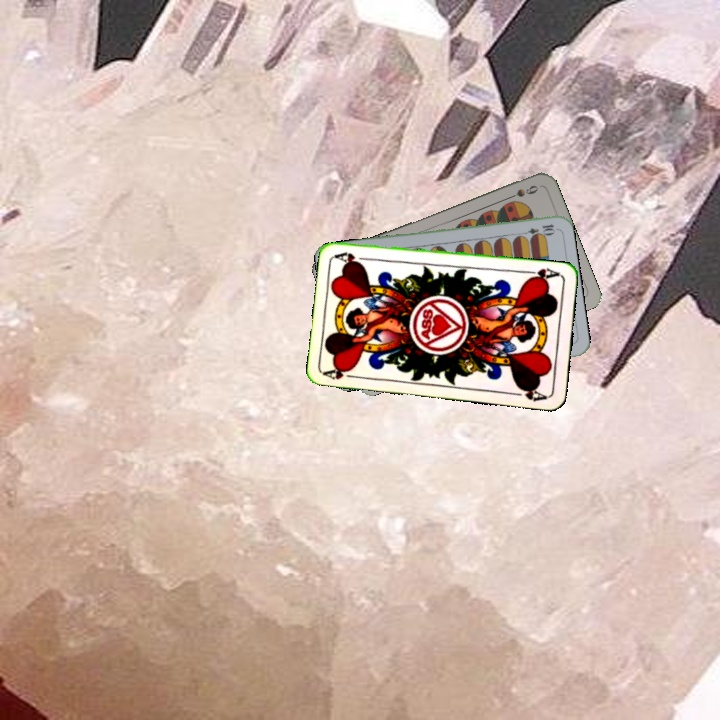E10: (517, 220, 557, 239)
HA: (321, 362, 362, 382), (522, 264, 562, 284)
S9: (502, 181, 541, 202)
